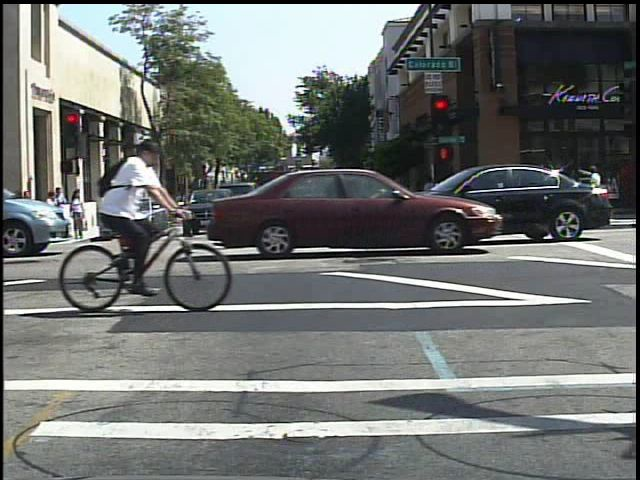person: (102, 125, 181, 304), (586, 158, 613, 223)
